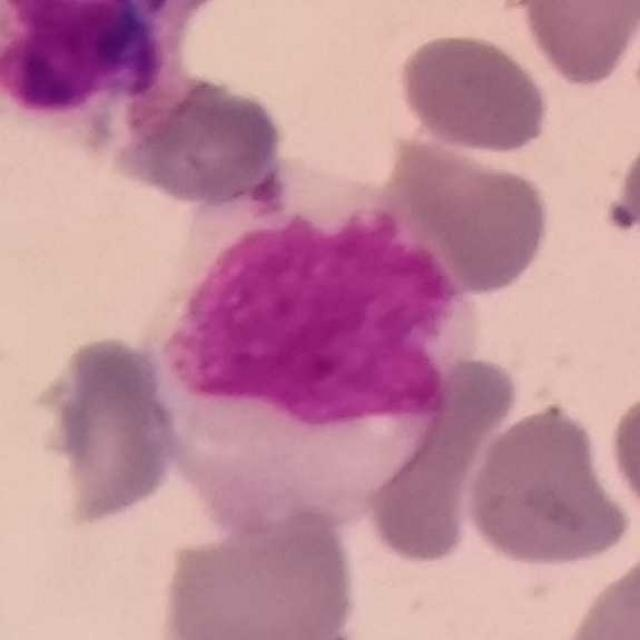Monocyte: (145, 168, 481, 545), (1, 1, 221, 119)
RBC: (148, 336, 462, 541), (354, 355, 521, 569), (27, 329, 187, 531), (460, 400, 636, 571), (375, 135, 554, 297), (154, 505, 362, 640), (108, 84, 294, 212), (394, 29, 553, 158), (515, 0, 640, 90), (415, 354, 523, 437), (556, 541, 640, 640), (605, 378, 640, 532)
